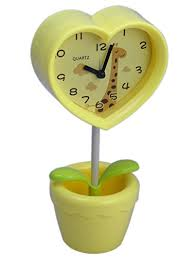alarm_clock: (20, 3, 168, 128), (29, 3, 168, 128)
